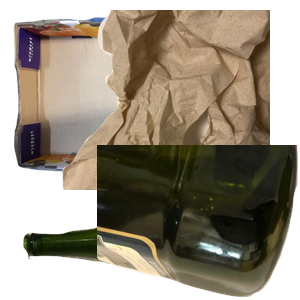cardboard: (11, 13, 251, 182)
glass: (21, 201, 261, 300)
plastic: (97, 145, 300, 300)
trash: (60, 10, 300, 190)
